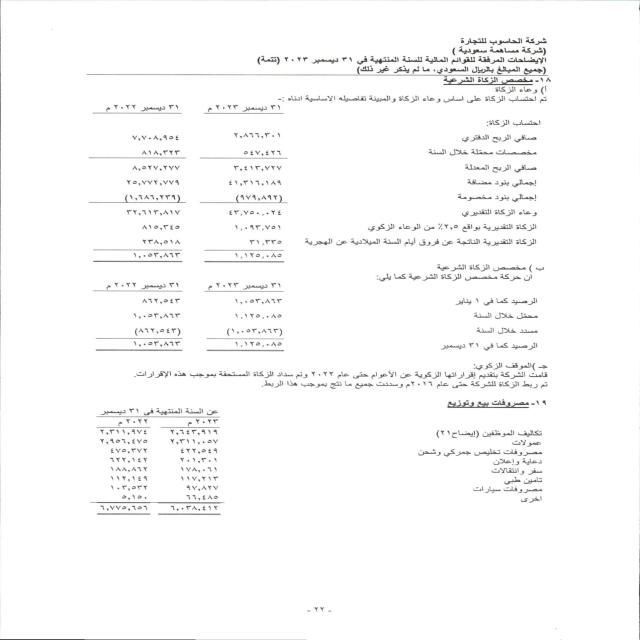notes: (424, 56, 555, 66)
table: (65, 103, 301, 360), (74, 402, 245, 531)
